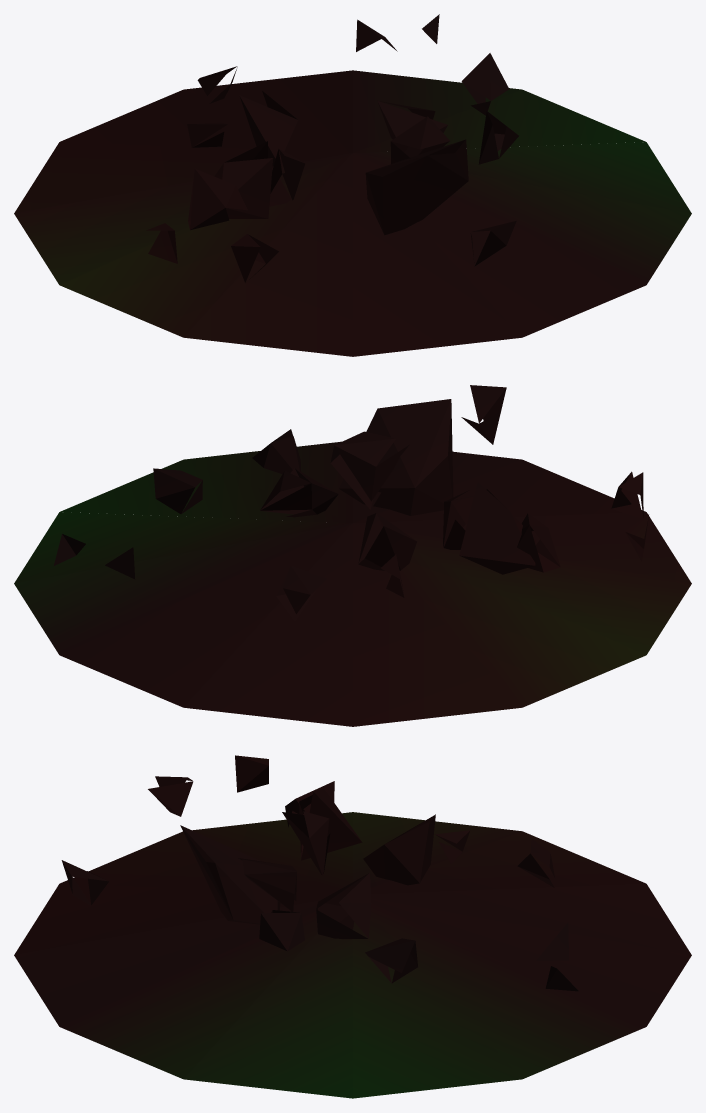
File: tf_talus_patch_6m_lod1.glb
3 renders of one model, top to bottom at view 1: azimuth 30°, elevation 25°; view 2: azimuth 150°, elevation 25°; view 3: azimuth 270°, elevation 25°, orthographic.
Parts seen in each view (by area): view 1: tf_talus_patch_6m_lod1; view 2: tf_talus_patch_6m_lod1; view 3: tf_talus_patch_6m_lod1.
Boxes of the visible parts, x1,y1,x2,y2 form: tf_talus_patch_6m_lod1: (14,14,691,356); tf_talus_patch_6m_lod1: (14,385,691,726); tf_talus_patch_6m_lod1: (14,755,691,1098).
Bounding box in the file's own units: 6.6 × 1.34 × 6.6.
